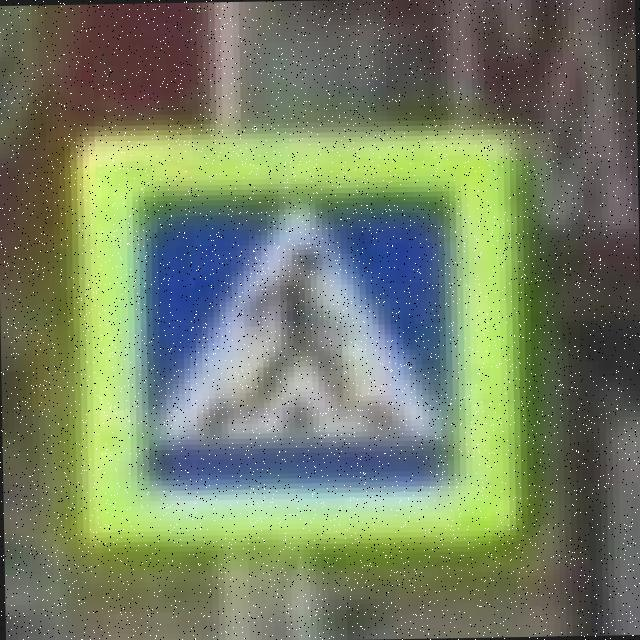Przejscie dla pieszych: (58, 119, 540, 564)
